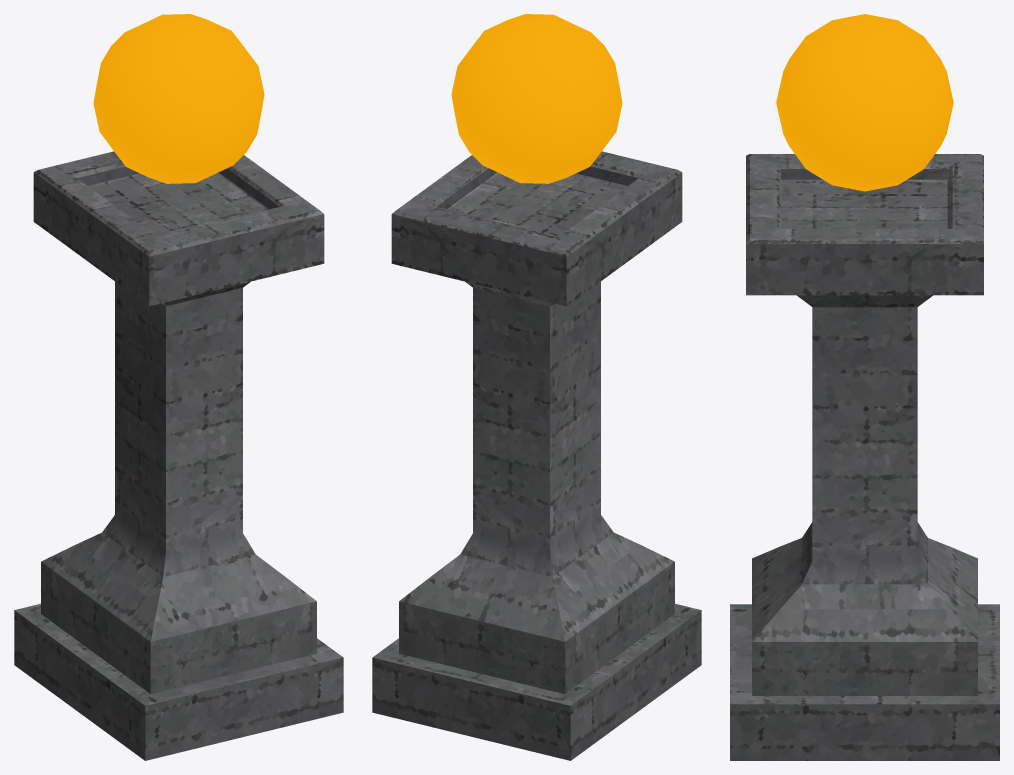
File: Pilier_Lumiere.fbx
The picture shows the model from 3 angles, left to right: view 1: azimuth 30°, elevation 25°; view 2: azimuth 150°, elevation 25°; view 3: azimuth 270°, elevation 25°; orthographic projection. The views are drawn at different scales.
Parts seen in each view (by area): view 1: Pillier_lumiere; view 2: Pillier_lumiere; view 3: Pillier_lumiere.
Part boxes in pixels (left/top/right/bottom): Pillier_lumiere: left=14, top=14, right=343, bottom=760; Pillier_lumiere: left=372, top=14, right=701, bottom=760; Pillier_lumiere: left=730, top=14, right=999, bottom=760.
Size of the model in its own units: 40.14 by 129 by 45.87.
2 materials, 1 textured.
